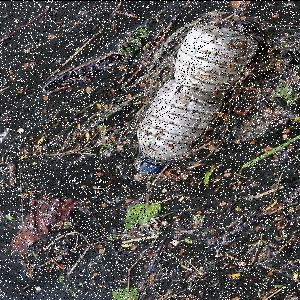Plastic-bottle: (137, 25, 261, 174)
